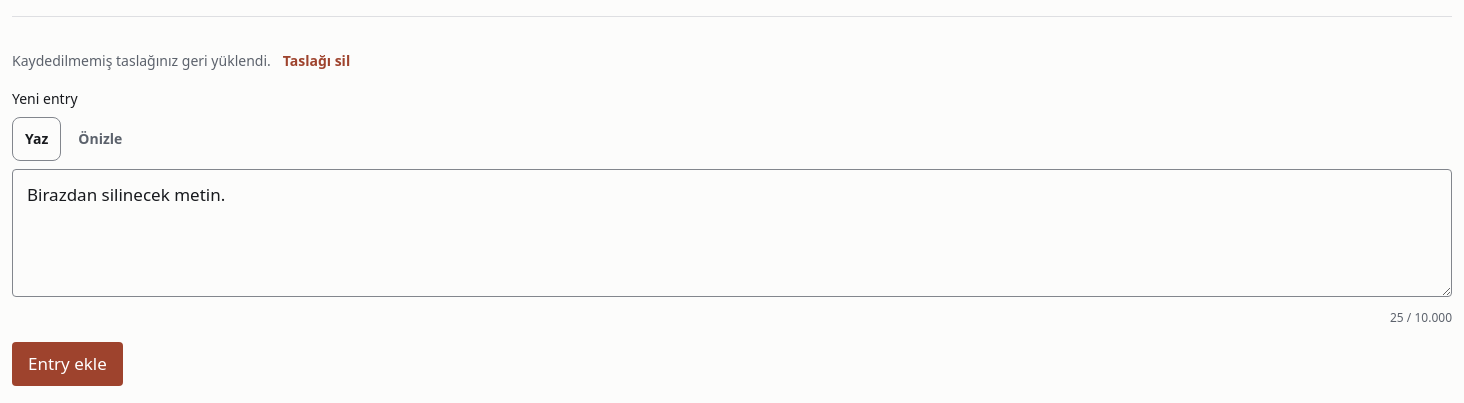
Test case: composer taslak saklama › metin boşaldığında anahtarı siler
The width and height of the screenshot is (1464, 403).
Clear the text box labelled "Yeni entry": (732, 233) [12, 169, 1452, 297]
Wait 500 ms
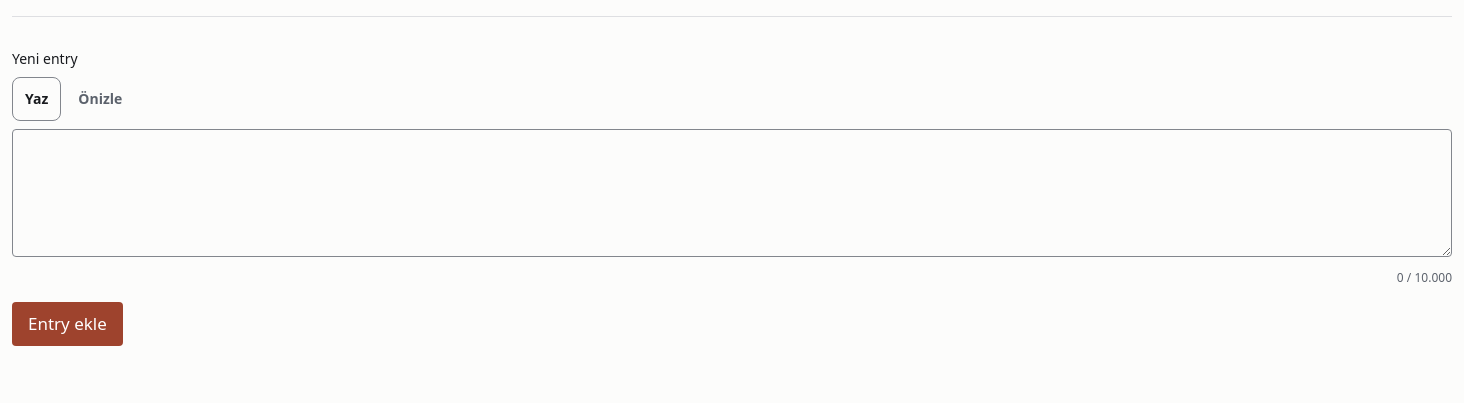
Expected: the text "Kaydedilmemiş taslağınız geri yüklendi." is gone
